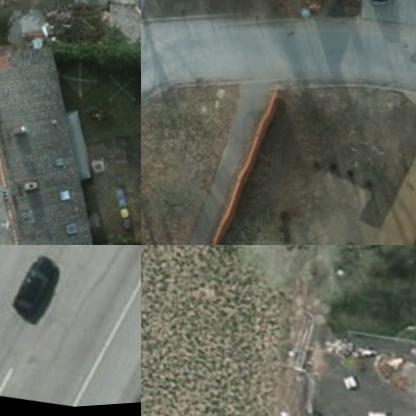car: (0, 245, 59, 327), (362, 0, 399, 9)
